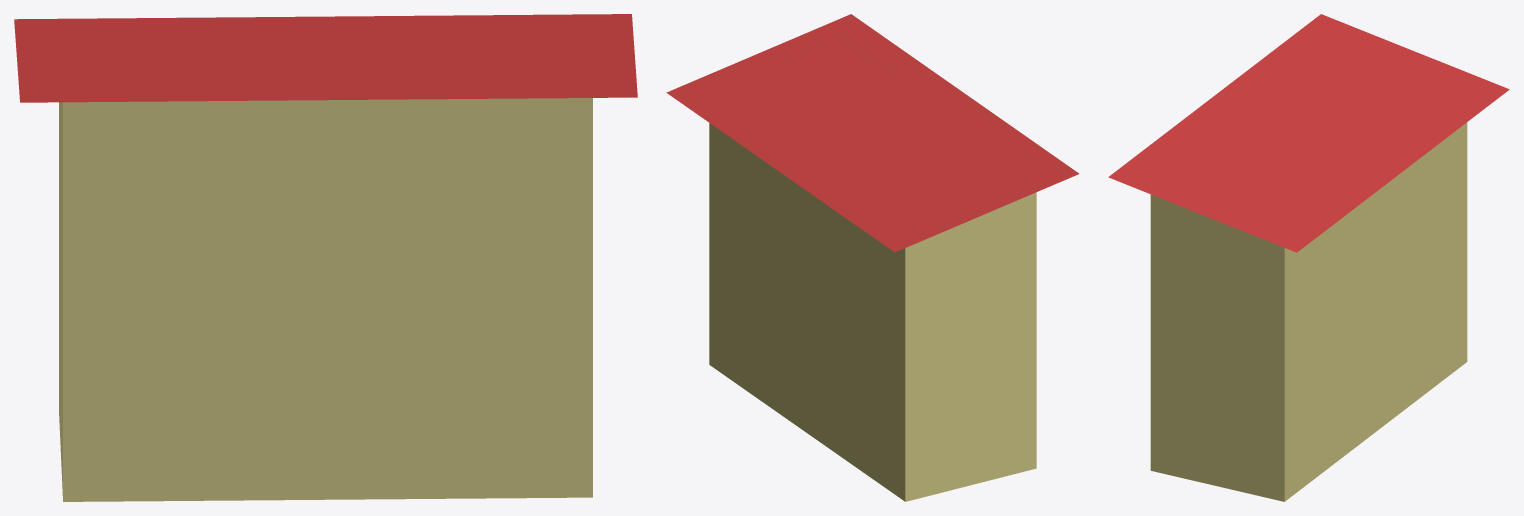
The picture shows the model from 3 angles, left to right: view 1: azimuth 30°, elevation 25°; view 2: azimuth 150°, elevation 25°; view 3: azimuth 270°, elevation 25°; orthographic projection. The views are drawn at different scales.
Size of the model in its own units: 7.82 by 6.41 by 5.25.
